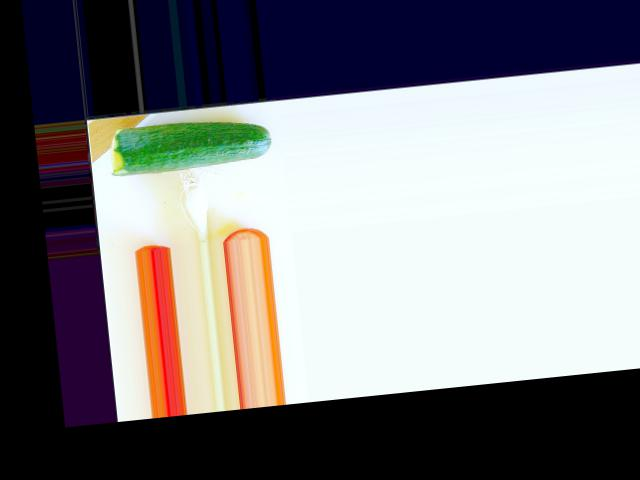cucumber: (107, 112, 274, 176)
